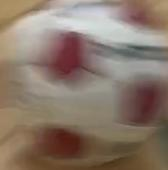Sports-Ball: (7, 1, 160, 163)
